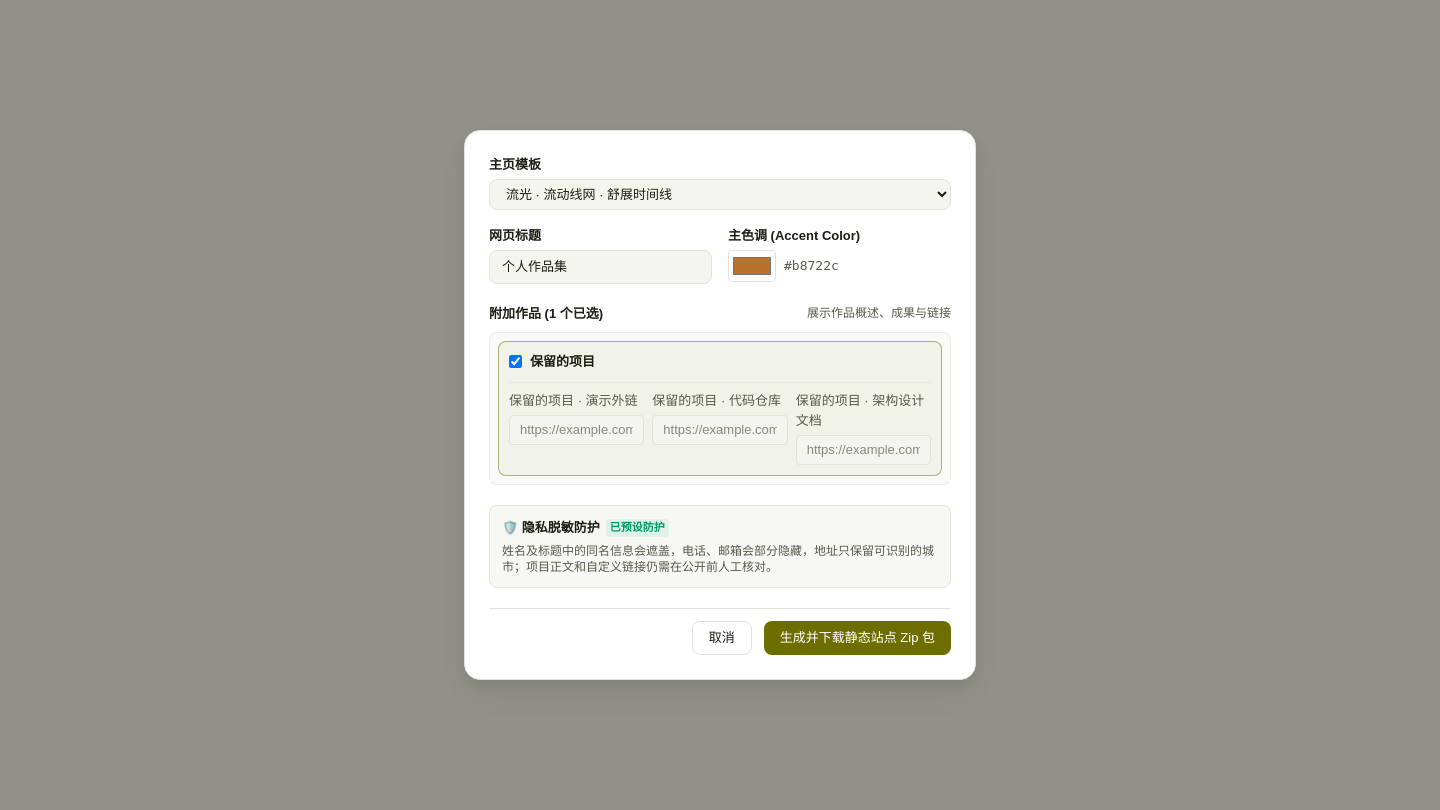
Test case: PortfolioExportDialog › 保存拒绝时保留弹窗与选择并显示错误，不请求导出或下载
The image size is (1440, 810).
Check: the text "保留的项目" is shown, box [530, 352, 595, 372]
Replace the text in the field showing "个人作品集" with "保留的标题" at (600, 267), box [489, 250, 712, 284]
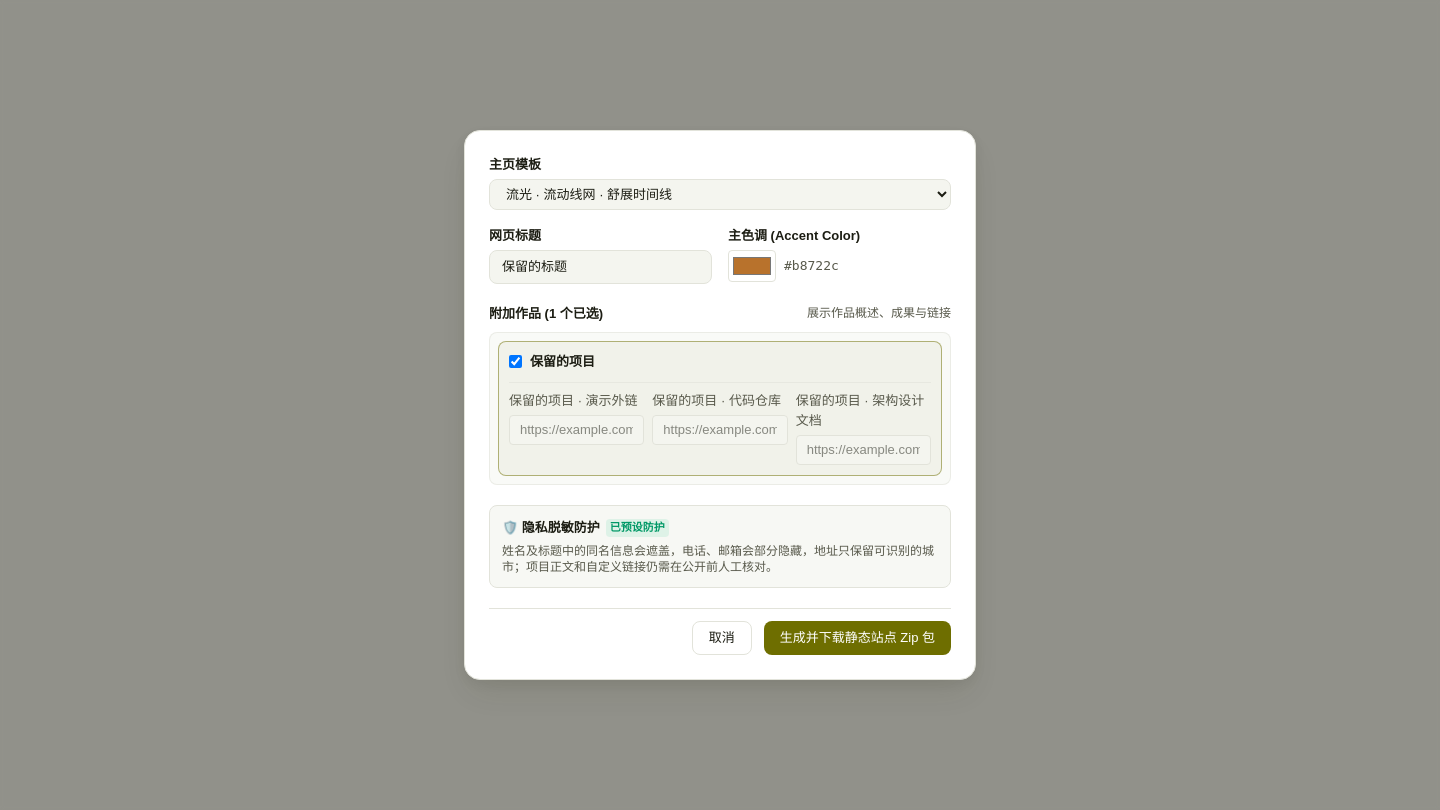
Click the checkbox labelled "保留的项目" at (516, 362), box [509, 355, 522, 368]
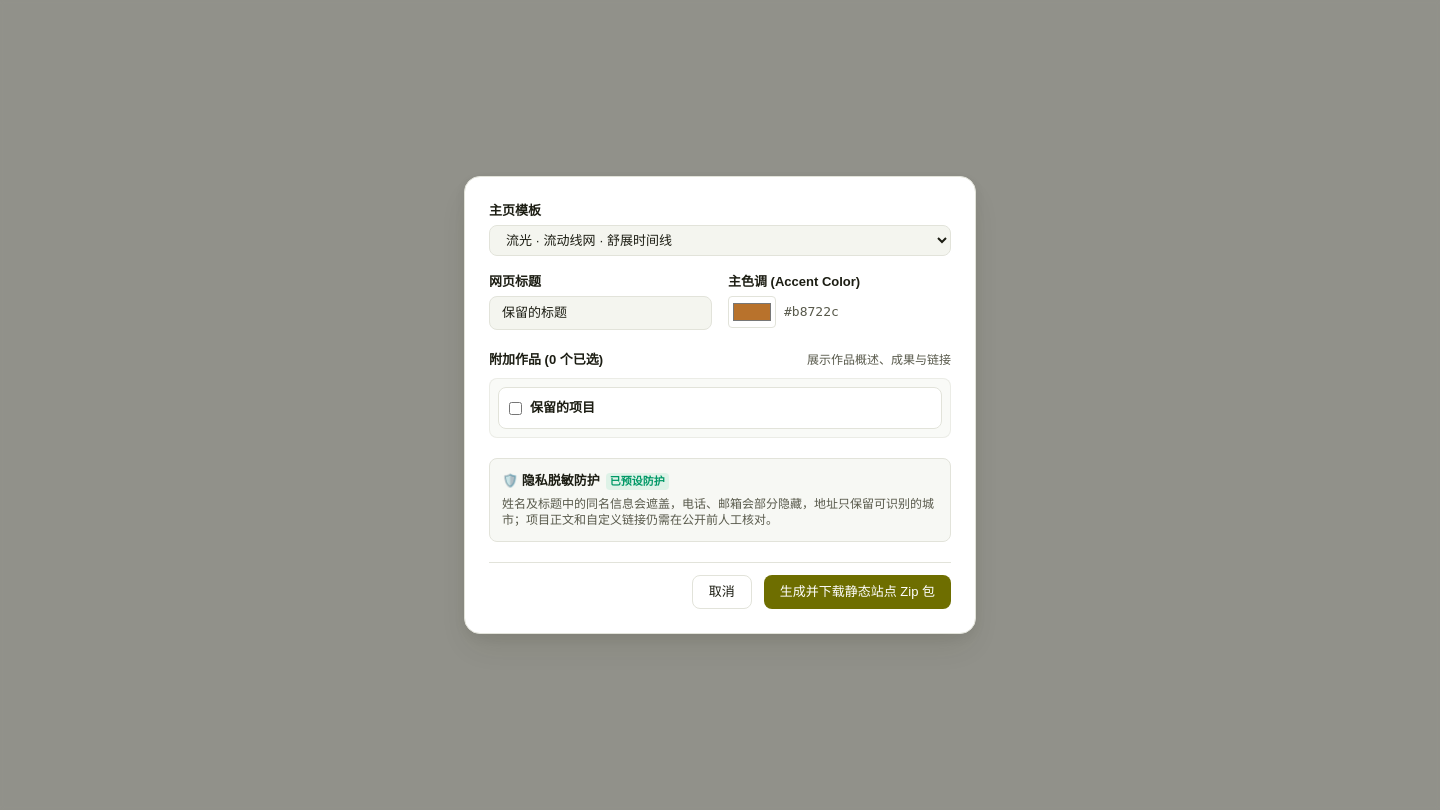
Click the button "生成并下载静态站点 Zip 包" at (857, 592), box [764, 575, 951, 609]
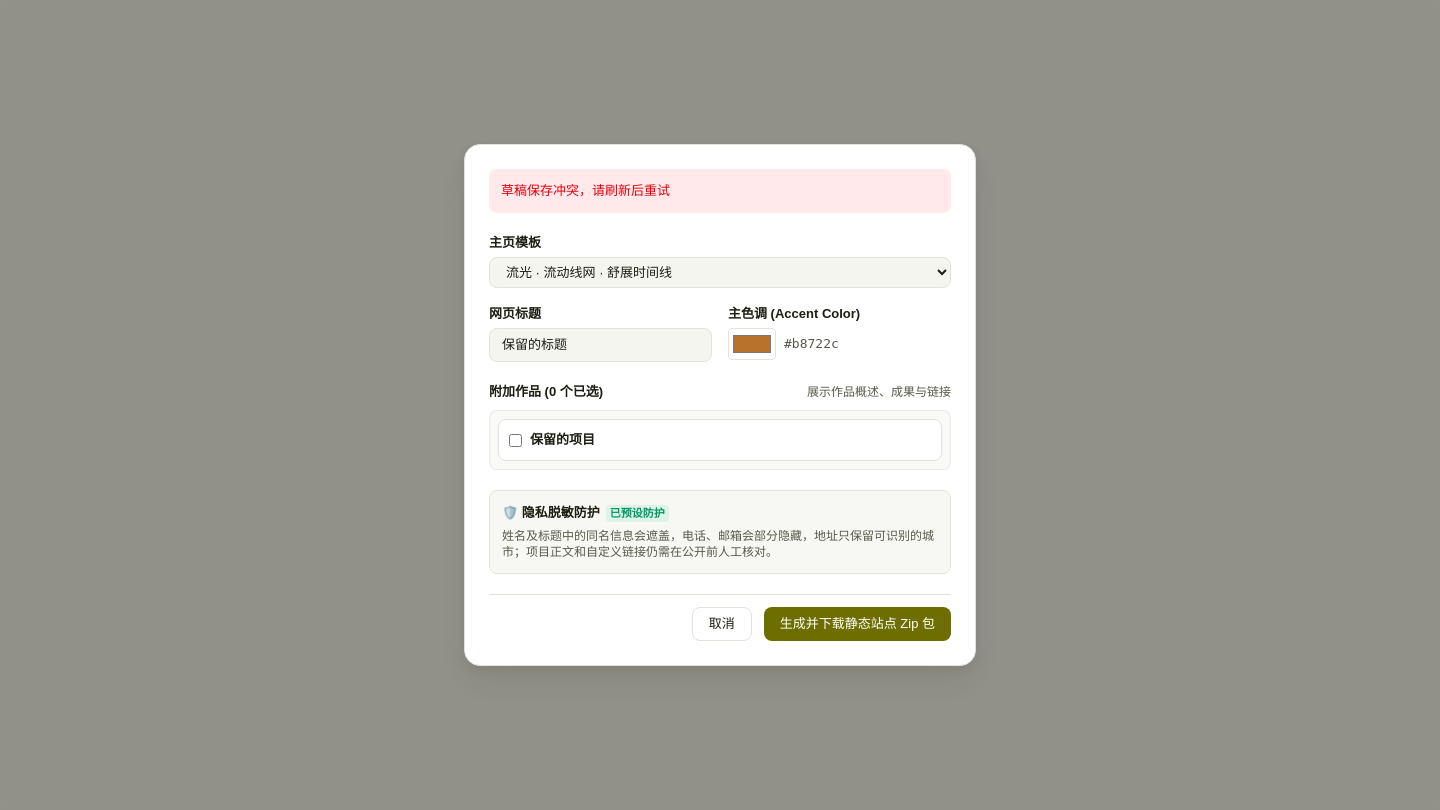
Check: the button "生成并下载静态站点 Zip 包" is enabled, box [764, 607, 951, 641]
Check: the checkbox labelled "保留的项目" is not checked, box [509, 434, 522, 447]
Check: the text "草稿保存冲突，请刷新后重试" is shown, box [489, 169, 951, 213]
